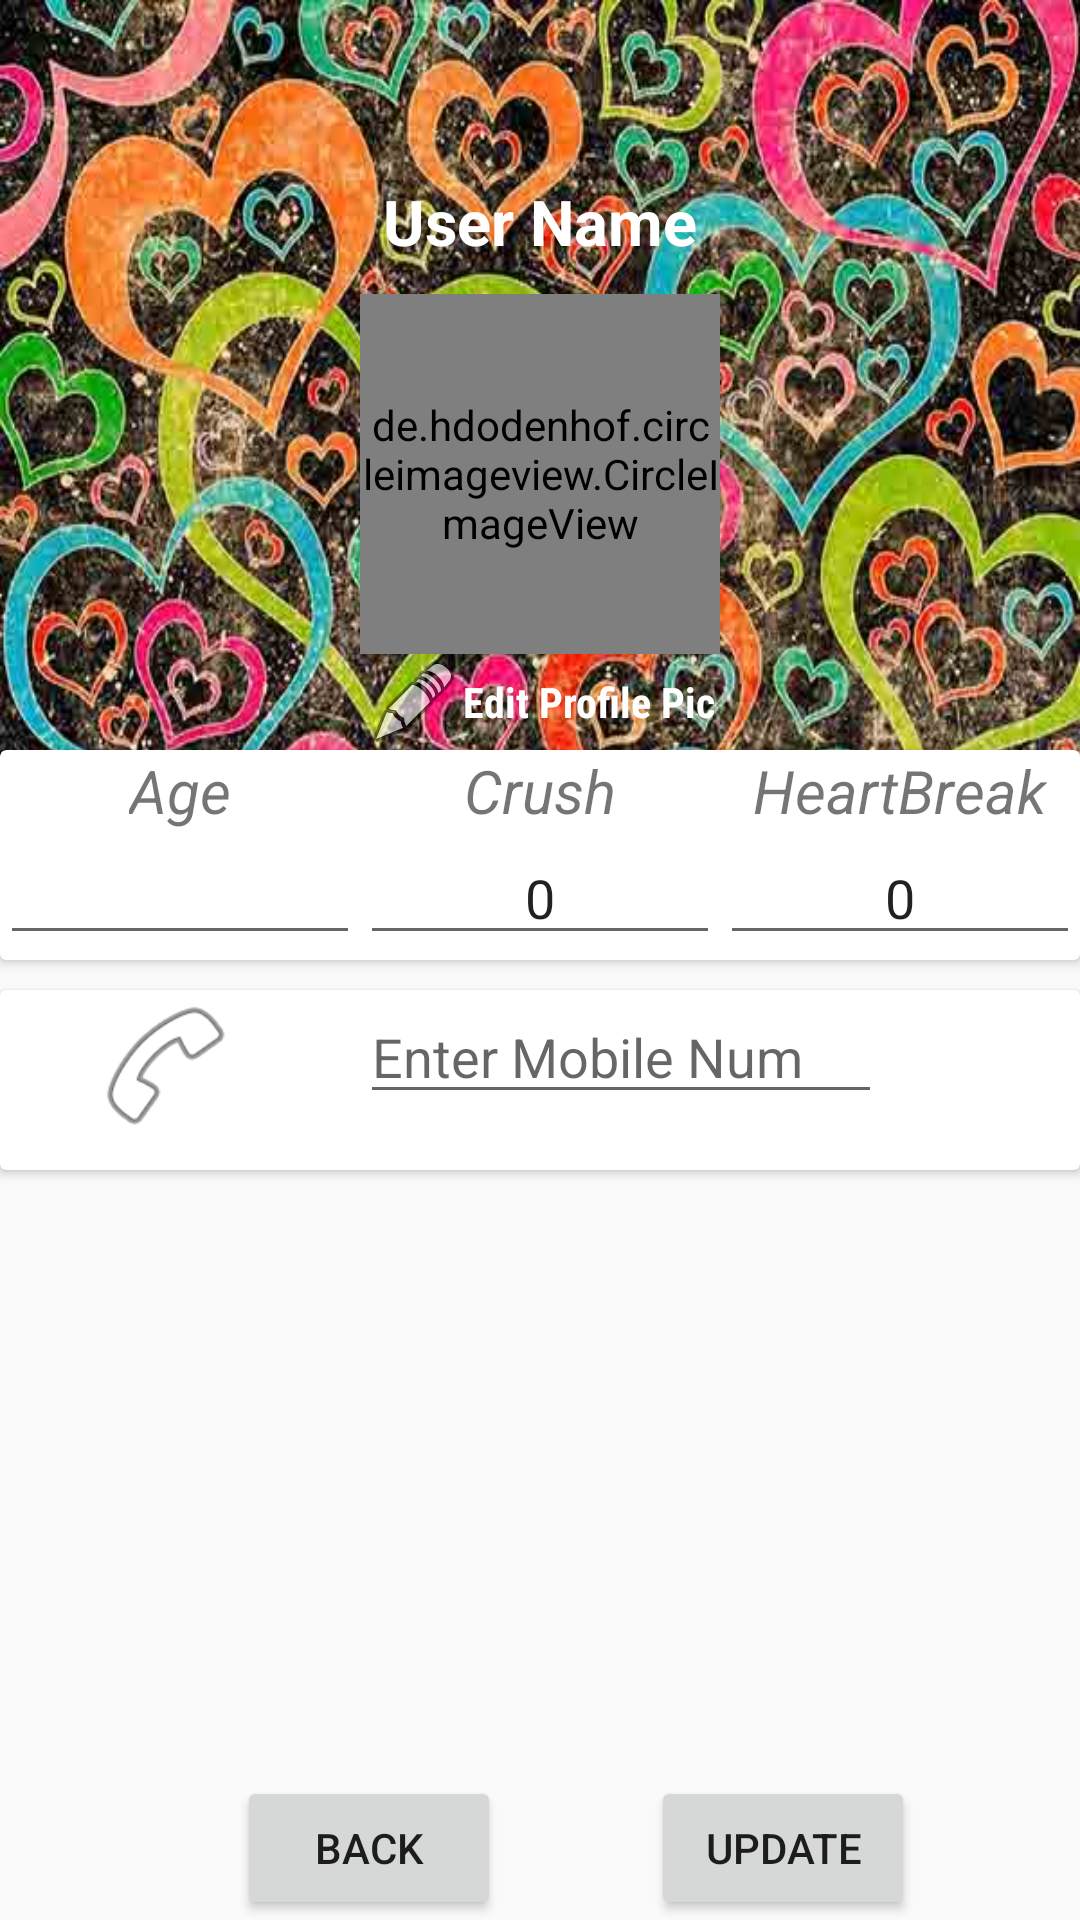

Icons on this 1080 × 1920 Android screen, each with the point to tap as (x=x, y=y):
call: (x=166, y=1066)
